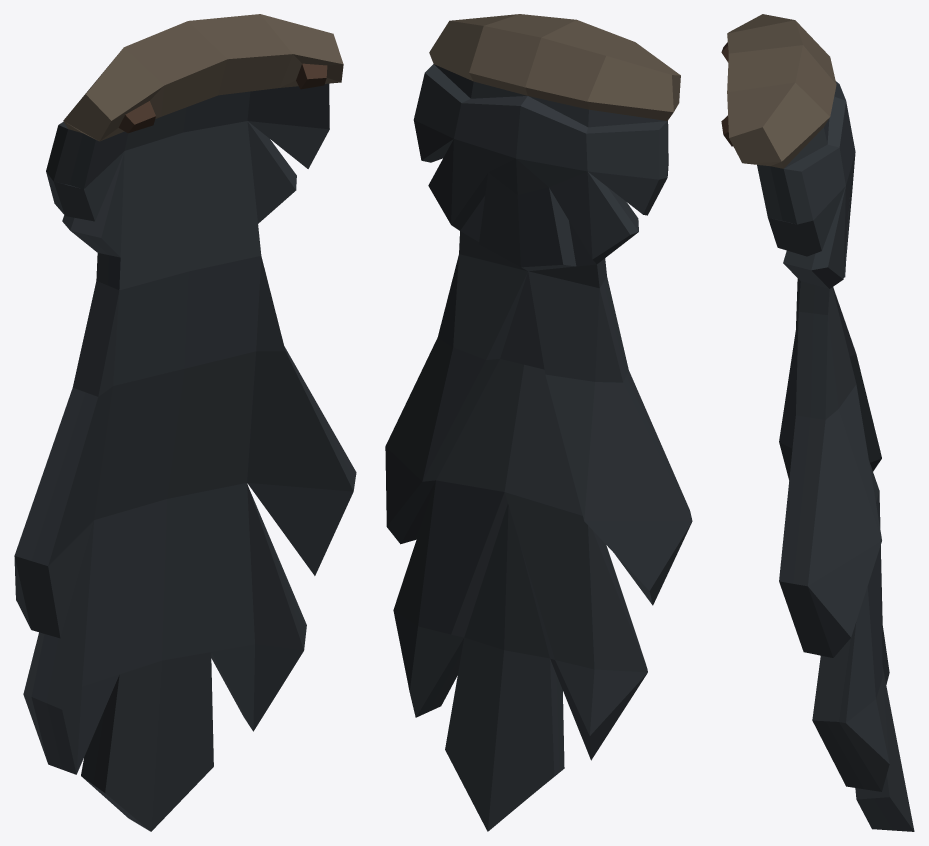
The model's file is Chr_BackAttachment_03_Static.fbx.
3 views of the same model, side by side, from view 1: azimuth 30°, elevation 25°; view 2: azimuth 150°, elevation 25°; view 3: azimuth 270°, elevation 25° (orthographic). The views are drawn at different scales.
Parts seen in each view (by area): view 1: Chr_BackAttachment_03_Static; view 2: Chr_BackAttachment_03_Static; view 3: Chr_BackAttachment_03_Static.
Part boxes in pixels (<box>): Chr_BackAttachment_03_Static: <box>14,14,356,831</box>; Chr_BackAttachment_03_Static: <box>385,14,692,831</box>; Chr_BackAttachment_03_Static: <box>721,14,914,831</box>.
Bounding box in the file's own units: 0.5452 × 1.28 × 0.285.
